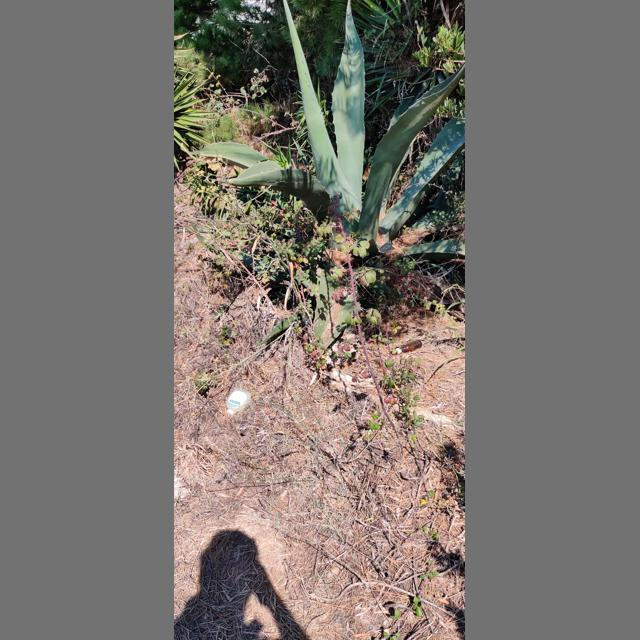litter: (226, 388, 251, 416), (391, 339, 422, 355), (226, 410, 234, 416)
